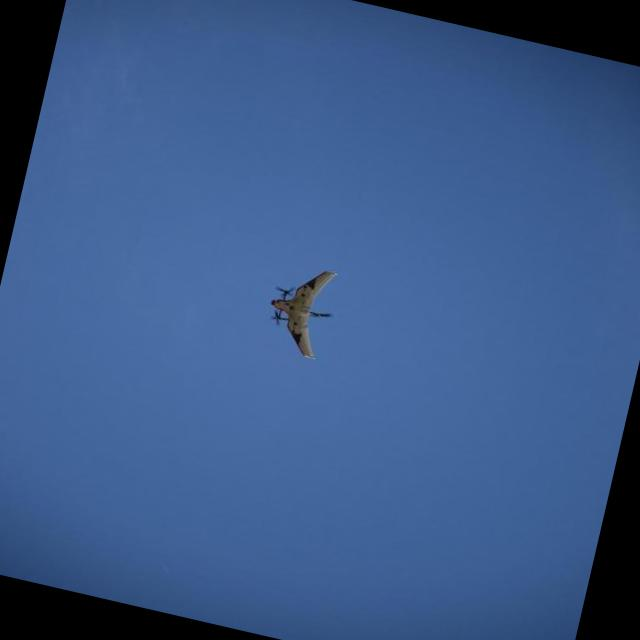UAV: (252, 213, 358, 374)
